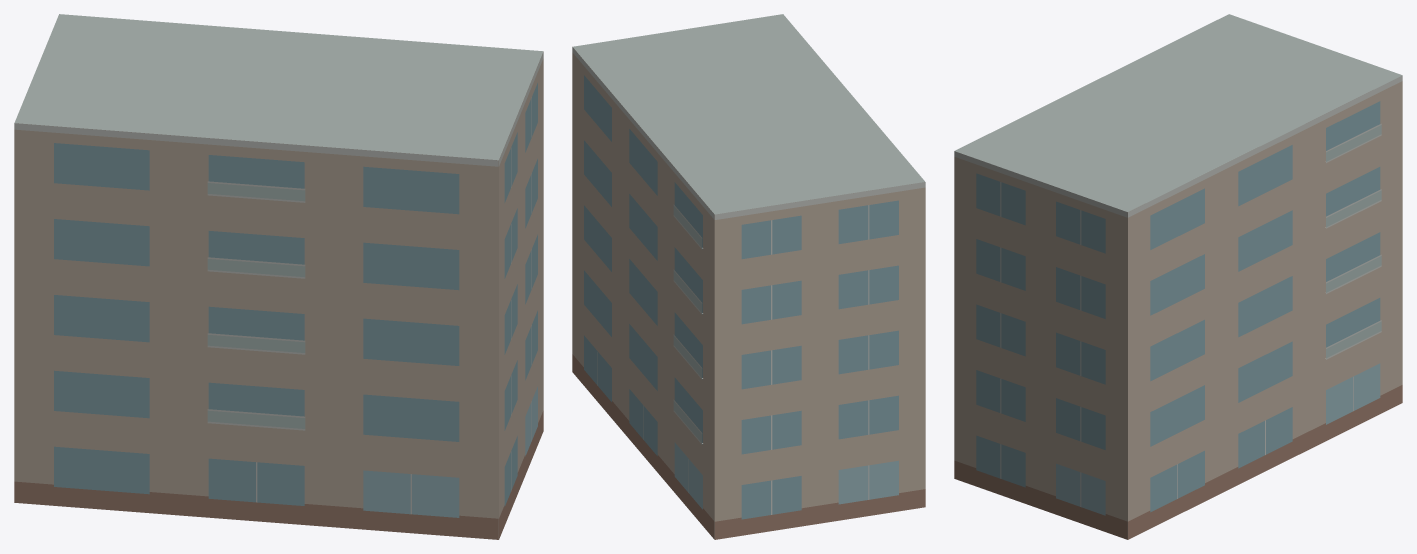
File: survey-upis-32680318.glb
3 views of the same model, side by side, from view 1: azimuth 30°, elevation 25°; view 2: azimuth 150°, elevation 25°; view 3: azimuth 270°, elevation 25° (orthographic). The views are drawn at different scales.
Visible parts, largest first — view 1: survey-upis-32680318.tmp; view 2: survey-upis-32680318.tmp; view 3: survey-upis-32680318.tmp.
Boxes of the visible parts, x1,y1,x2,y2 form: survey-upis-32680318.tmp: [14, 14, 543, 539]; survey-upis-32680318.tmp: [572, 14, 925, 539]; survey-upis-32680318.tmp: [954, 14, 1402, 539].
Size of the model in its own units: 18.43 by 14.2 by 17.62.
